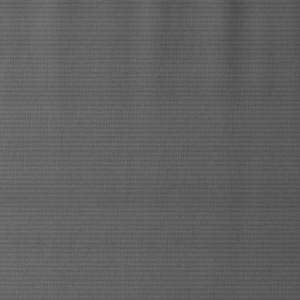Wrinkle: (216, 1, 267, 236), (91, 1, 178, 126), (18, 1, 77, 183)
